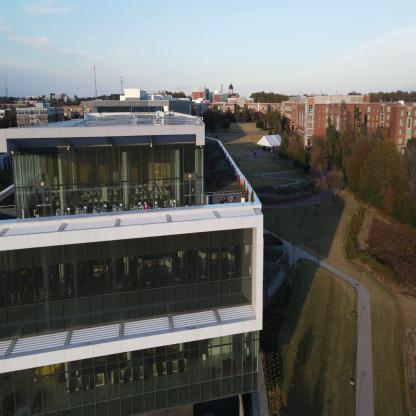Hunt Library: (0, 85, 266, 415)
Wolf Ridge: (283, 90, 415, 173)
